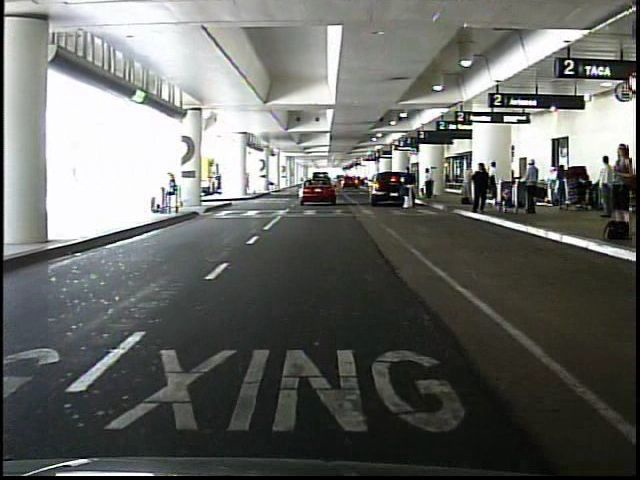person: (609, 145, 634, 223), (596, 157, 614, 218), (524, 158, 541, 216), (470, 160, 488, 213), (162, 172, 182, 218), (543, 167, 559, 205), (403, 167, 415, 213), (486, 161, 497, 202), (424, 168, 436, 202)
